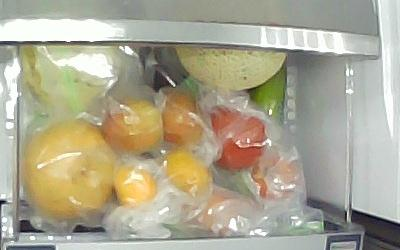cabbage_vinyl: (18, 45, 120, 109)
eggplant: (138, 45, 190, 92)
melon: (173, 45, 286, 91)
pear_vinyl: (25, 117, 119, 217)
prune_vinyl: (98, 96, 164, 155), (155, 89, 205, 147), (250, 150, 299, 201)
tangerine_vinyl: (157, 148, 212, 197), (113, 161, 158, 208)
tomato_vinyl: (207, 103, 265, 170)
zucchini: (247, 53, 287, 125)
